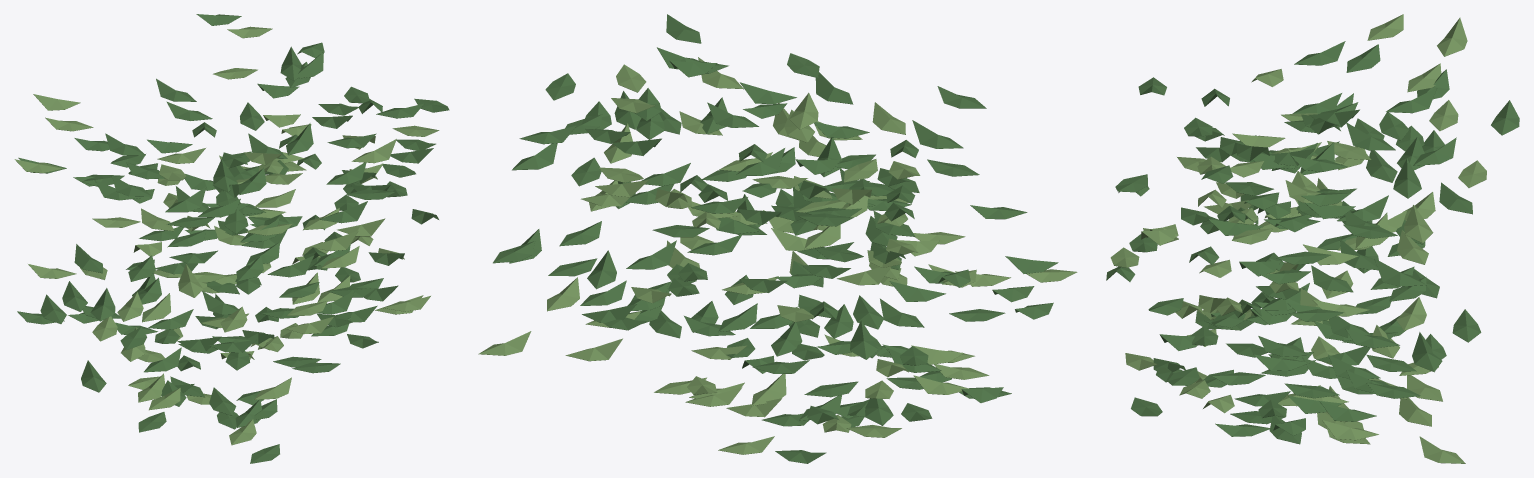
File: hedge_v5.glb
3 renders of one model, left to right at view 1: azimuth 30°, elevation 25°; view 2: azimuth 150°, elevation 25°; view 3: azimuth 270°, elevation 25°, orthographic. The views are drawn at different scales.
Parts seen in each view (by area): view 1: Folded_live_leaf.091, Folded_live_leaf.008, Folded_live_leaf.038, Folded_live_leaf.201, Folded_live_leaf.143, Folded_live_leaf.022, Folded_live_leaf.089, Folded_live_leaf.166, Folded_live_leaf.039, Folded_live_leaf.053, Folded_live_leaf.099, Folded_live_leaf.046 (+4 smaller); view 2: Folded_live_leaf.020, Folded_live_leaf.141, Folded_live_leaf.093, Folded_live_leaf.008, Folded_live_leaf.063, Folded_live_leaf.174, Folded_live_leaf.005, Folded_live_leaf.089, Folded_live_leaf.152, Folded_live_leaf.037; view 3: Folded_live_leaf.187, Folded_live_leaf.178, Folded_live_leaf.030, Folded_live_leaf.206, Folded_live_leaf.174, Folded_live_leaf.005, Folded_live_leaf.181, Folded_live_leaf.185, Folded_live_leaf.034, Folded_live_leaf.197, Folded_live_leaf.146, Folded_live_leaf.177 (+52 smaller).
Boxes of the visible parts, <box> form: Folded_live_leaf.091: <box>178,264,202,297</box>; Folded_live_leaf.008: <box>165,187,206,212</box>; Folded_live_leaf.038: <box>90,288,115,321</box>; Folded_live_leaf.201: <box>286,123,313,155</box>; Folded_live_leaf.143: <box>351,139,396,163</box>; Folded_live_leaf.022: <box>81,360,106,392</box>; Folded_live_leaf.089: <box>320,201,367,223</box>; Folded_live_leaf.166: <box>213,159,237,192</box>; Folded_live_leaf.039: <box>142,293,170,322</box>; Folded_live_leaf.053: <box>62,281,87,311</box>; Folded_live_leaf.099: <box>267,255,314,277</box>; Folded_live_leaf.046: <box>74,244,102,273</box>; Folded_live_leaf.020: <box>850,320,878,359</box>; Folded_live_leaf.141: <box>587,250,616,289</box>; Folded_live_leaf.093: <box>626,240,676,269</box>; Folded_live_leaf.008: <box>912,120,963,148</box>; Folded_live_leaf.063: <box>789,92,818,129</box>; Folded_live_leaf.174: <box>512,143,557,170</box>; Folded_live_leaf.005: <box>735,148,784,175</box>; Folded_live_leaf.089: <box>815,72,853,104</box>; Folded_live_leaf.152: <box>547,277,579,311</box>; Folded_live_leaf.037: <box>771,322,802,356</box>; Folded_live_leaf.187: <box>1393,158,1421,198</box>; Folded_live_leaf.178: <box>1412,332,1442,372</box>; Folded_live_leaf.030: <box>1437,17,1467,56</box>; Folded_live_leaf.206: <box>1404,205,1433,243</box>; Folded_live_leaf.174: <box>1374,258,1426,286</box>; Folded_live_leaf.005: <box>1346,123,1395,150</box>; Folded_live_leaf.181: <box>1491,100,1519,135</box>; Folded_live_leaf.185: <box>1397,230,1428,264</box>; Folded_live_leaf.034: <box>1366,150,1397,182</box>; Folded_live_leaf.197: <box>1399,397,1431,426</box>; Folded_live_leaf.146: <box>1396,297,1426,330</box>; Folded_live_leaf.177: <box>1439,182,1472,214</box>.
Bounding box in the file's own units: 1.49 × 1.06 × 1.08.
